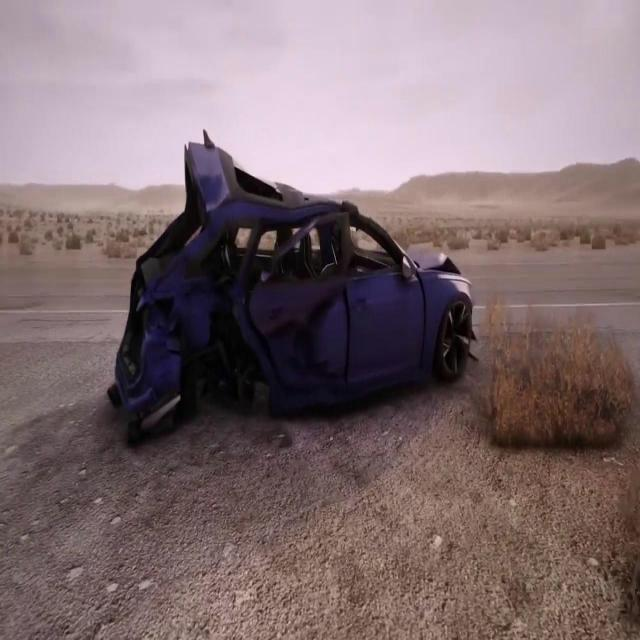severe: (105, 126, 477, 442)
